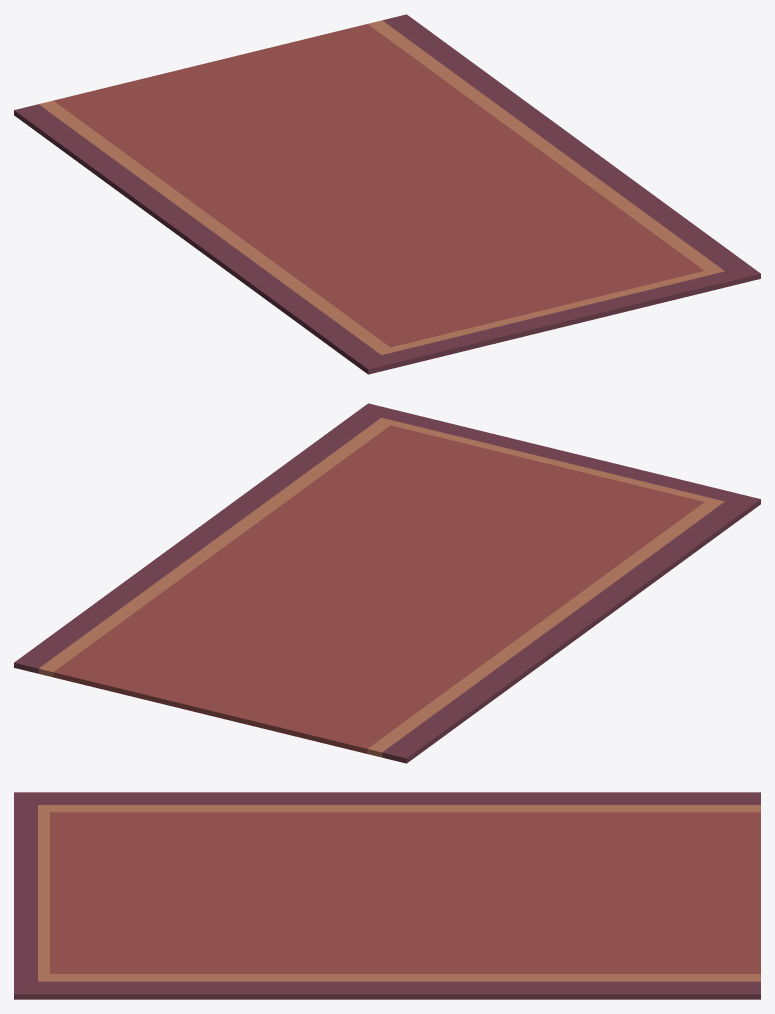
The model's file is AlfombraRoja.obj.
The picture shows the model from 3 angles, top to bottom: view 1: azimuth 30°, elevation 25°; view 2: azimuth 150°, elevation 25°; view 3: azimuth 270°, elevation 25°; orthographic projection. The views are drawn at different scales.
Size of the model in its own units: 80 by 1 by 125.
Materials: 1 (1 with a texture image).
